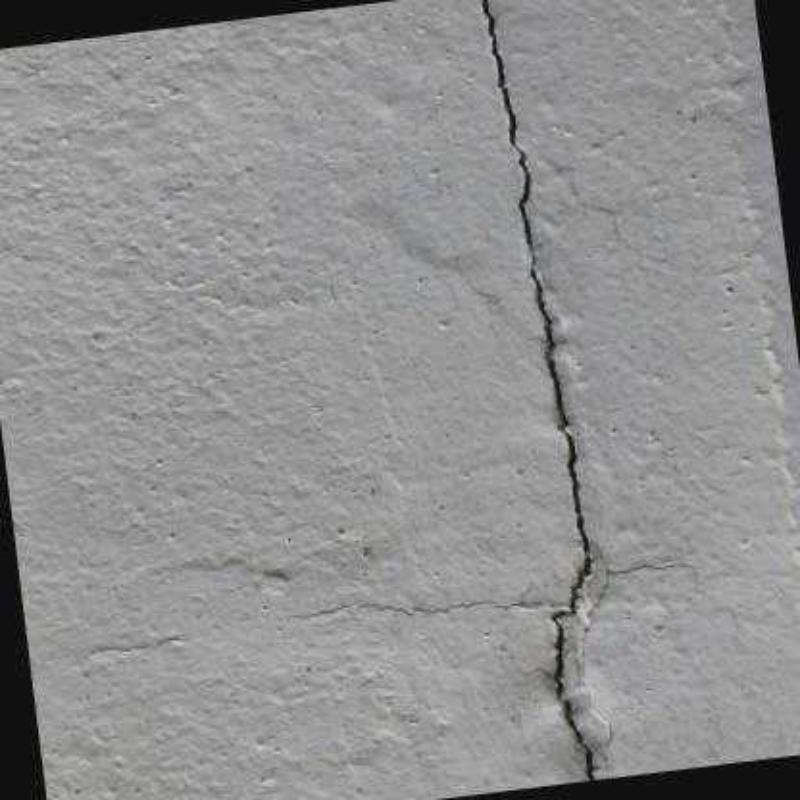pothole: (480, 0, 596, 780), (579, 540, 690, 677), (292, 600, 563, 619)
